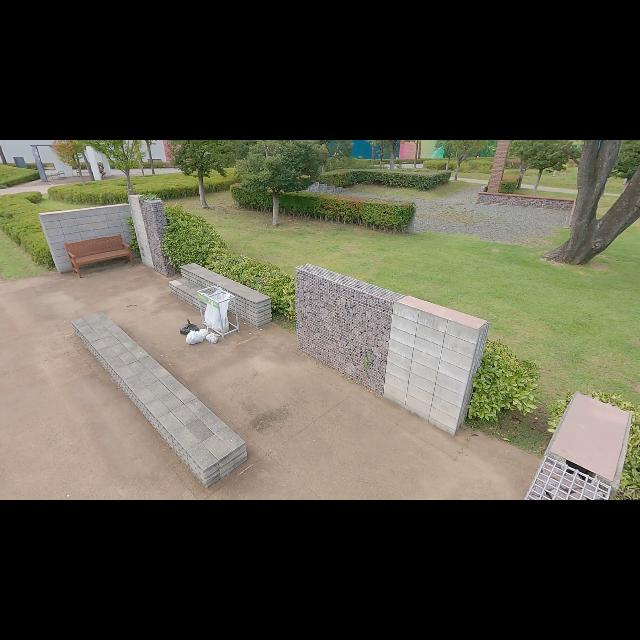trash: (180, 318, 198, 336), (184, 330, 203, 344), (206, 332, 220, 344), (200, 326, 208, 339)
